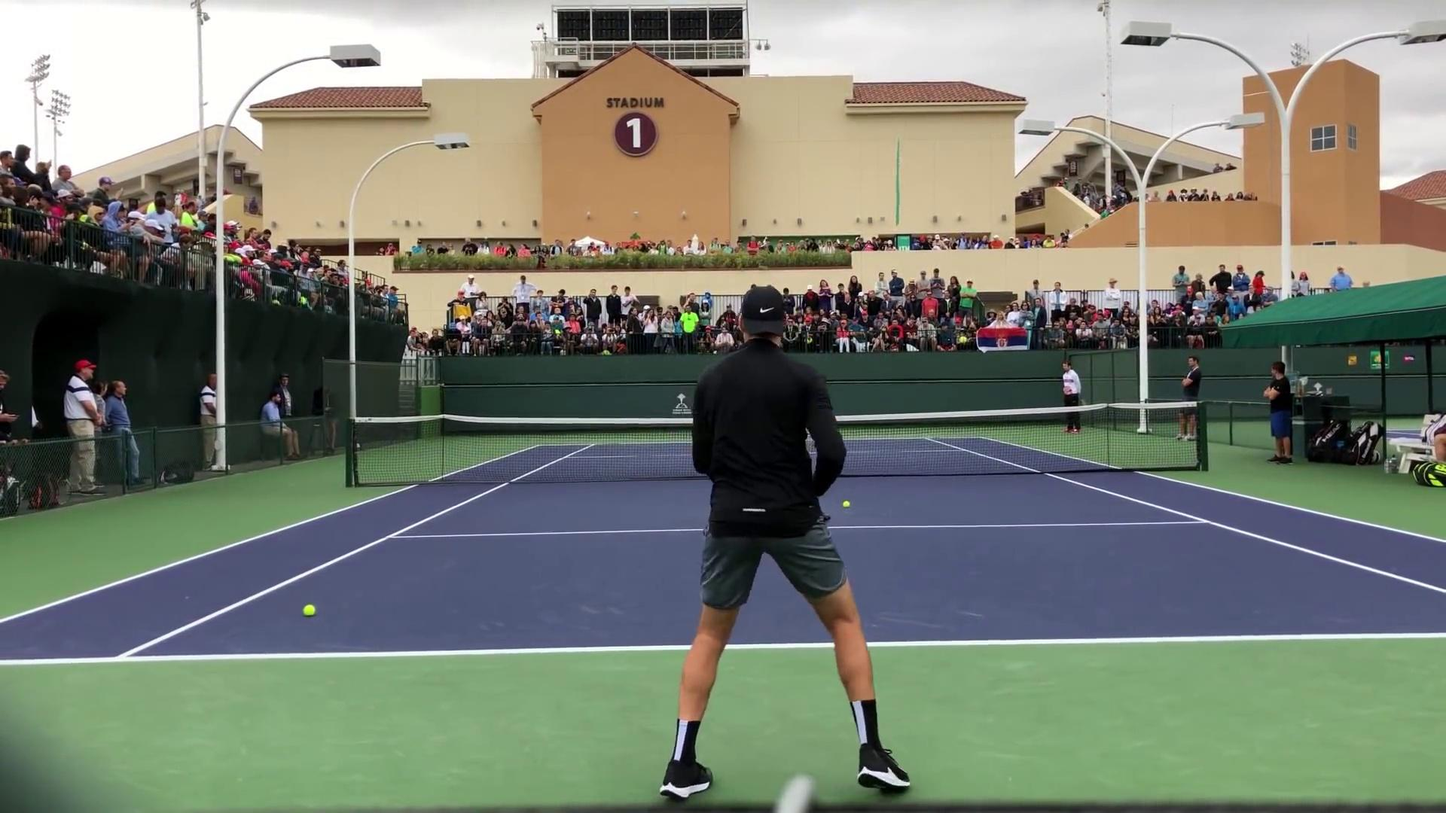ball: (302, 604, 316, 616), (842, 500, 851, 508)
